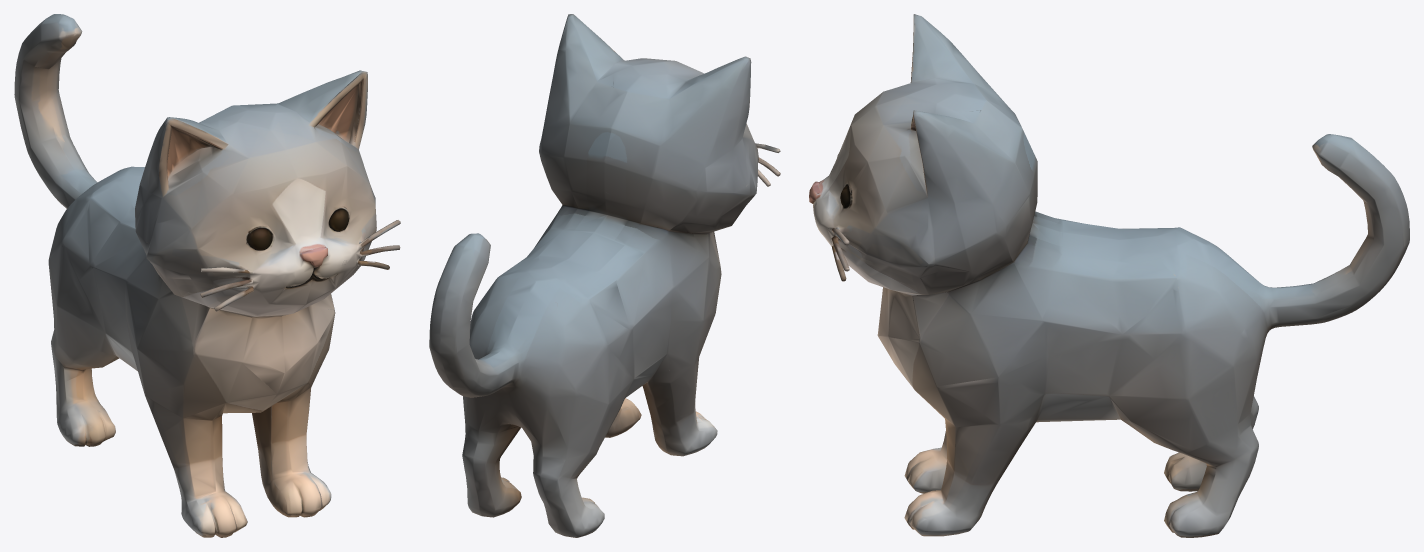
The model's file is cat-lowpoly.glb.
3 views of the same model, side by side, from view 1: azimuth 30°, elevation 25°; view 2: azimuth 150°, elevation 25°; view 3: azimuth 270°, elevation 25° (orthographic). The views are drawn at different scales.
Visible parts, largest first — view 1: convert; view 2: convert; view 3: convert.
Boxes of the visible parts, x1,y1,x2,y2 form: convert: (14,14,400,537); convert: (429,14,780,537); convert: (809,14,1409,537).
Size of the model in its own units: 0.4853 by 0.8787 by 1.08.
1 material, 1 textured.
